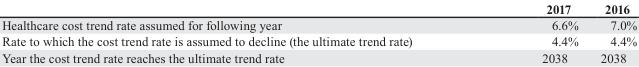table: (1, 1, 636, 64)
table column: (1, 1, 476, 64), (476, 1, 588, 64), (588, 1, 636, 64)
table column header: (1, 1, 636, 16)
table row: (1, 32, 636, 49), (1, 16, 636, 32), (1, 1, 636, 16), (1, 49, 636, 64)
